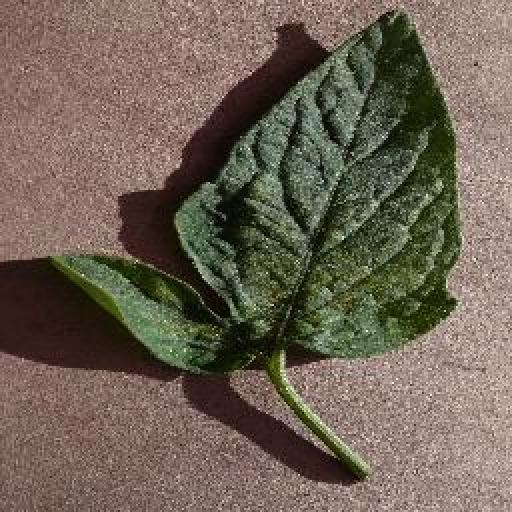disease_tomato: (51, 6, 461, 374)
